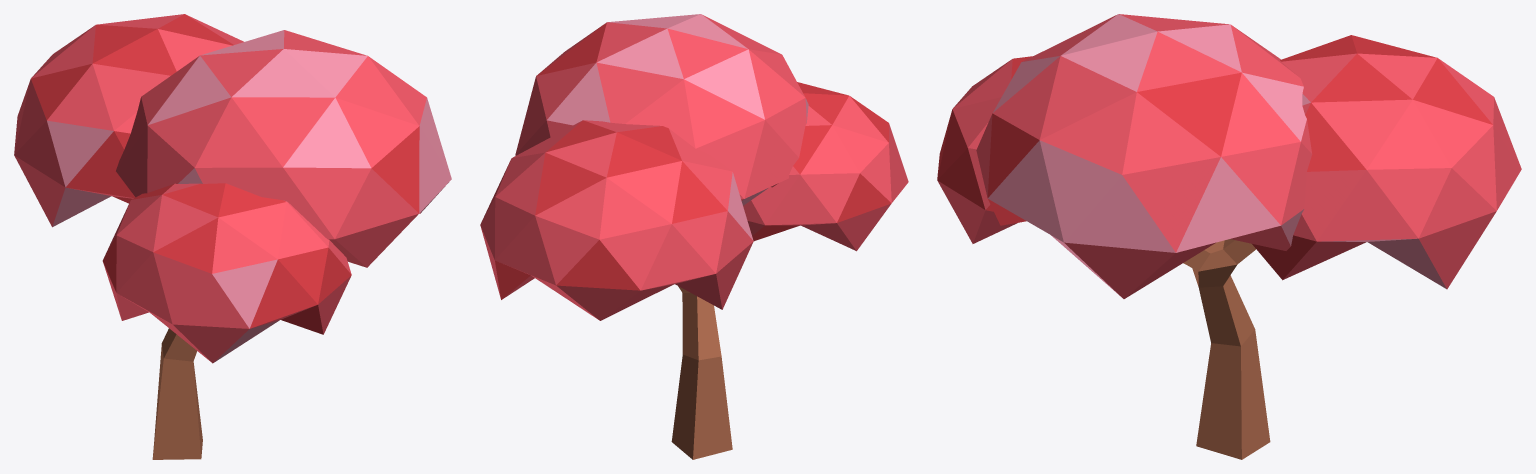
Rendered from Tree_12.fbx.
The picture shows the model from 3 angles, left to right: view 1: azimuth 30°, elevation 25°; view 2: azimuth 150°, elevation 25°; view 3: azimuth 270°, elevation 25°; orthographic projection. The views are drawn at different scales.
Visible parts, largest first — view 1: Tree_12; view 2: Tree_12; view 3: Tree_12.
Boxes of the visible parts, left/top/right/bottom form: Tree_12: left=14, top=14, right=451, bottom=459; Tree_12: left=480, top=14, right=908, bottom=459; Tree_12: left=937, top=14, right=1521, bottom=459.
Bounding box in the file's own units: 444 × 498 × 582.
